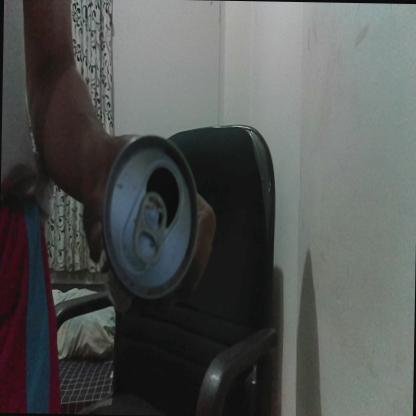alumunium_can: (100, 130, 202, 302)
